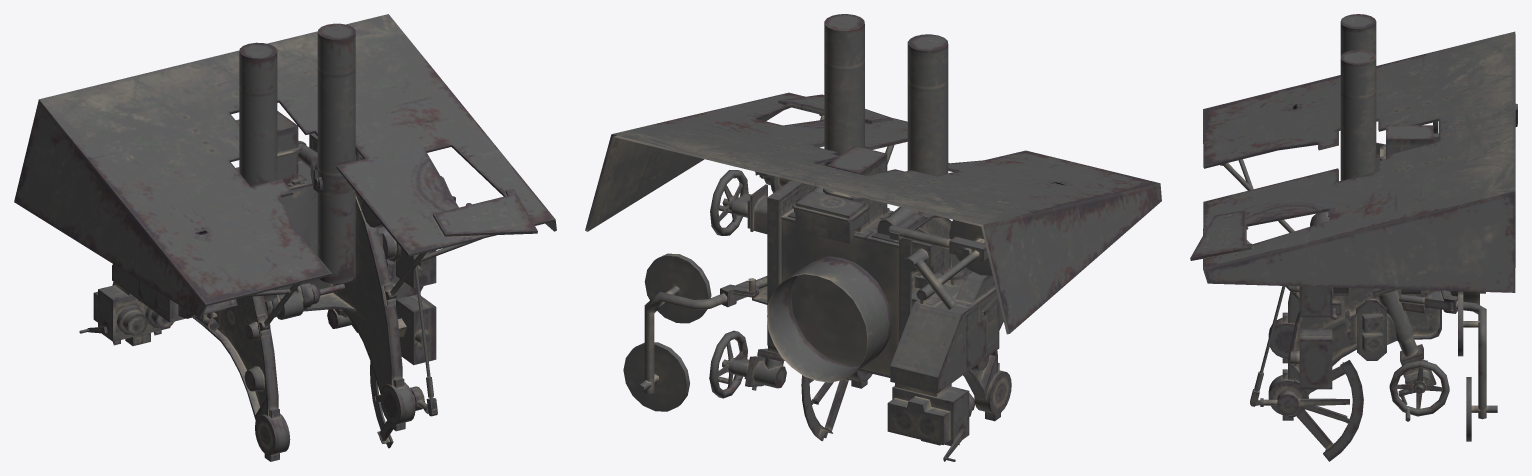
Rendered from Turret_01.glb.
3 renders of one model, left to right at view 1: azimuth 30°, elevation 25°; view 2: azimuth 150°, elevation 25°; view 3: azimuth 270°, elevation 25°, orthographic. The views are drawn at different scales.
Visible parts, largest first — view 1: set_0_group_0; view 2: set_0_group_0; view 3: set_0_group_0.
Boxes of the visible parts, bbox=[...] form: set_0_group_0: bbox=[14, 14, 556, 461]; set_0_group_0: bbox=[585, 14, 1161, 461]; set_0_group_0: bbox=[1190, 14, 1517, 461].
Bounding box in the file's own units: 2.29 × 2.26 × 1.74.
1 material, 1 textured.
